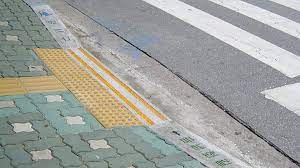guide_blocks: (37, 49, 141, 124), (1, 77, 64, 94)
